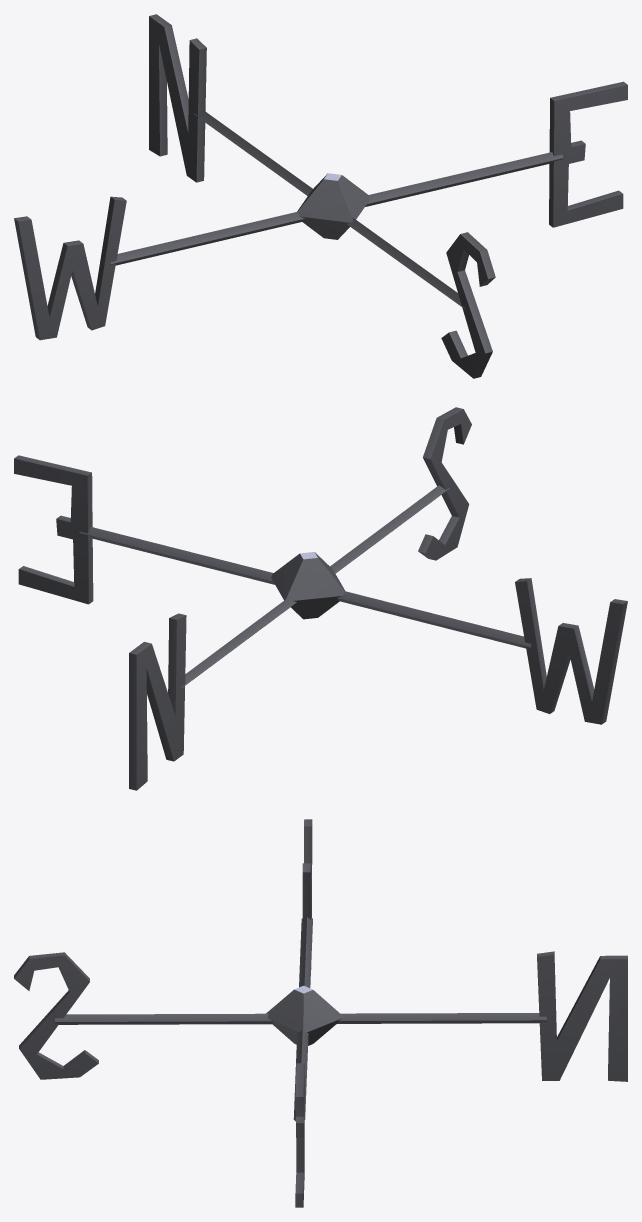
The model's file is vane_directions.glb.
The picture shows the model from 3 angles, top to bottom: view 1: azimuth 30°, elevation 25°; view 2: azimuth 150°, elevation 25°; view 3: azimuth 270°, elevation 25°; orthographic projection. The views are drawn at different scales.
Visible parts, largest first — view 1: Box025; view 2: Box025; view 3: Box025.
Boxes of the visible parts, x1,y1,x2,y2 form: Box025: (14,14,627,378); Box025: (14,407,627,790); Box025: (14,819,627,1207).
Bounding box in the file's own units: 1.13 × 0.2504 × 1.09.
1 material, 1 textured.
